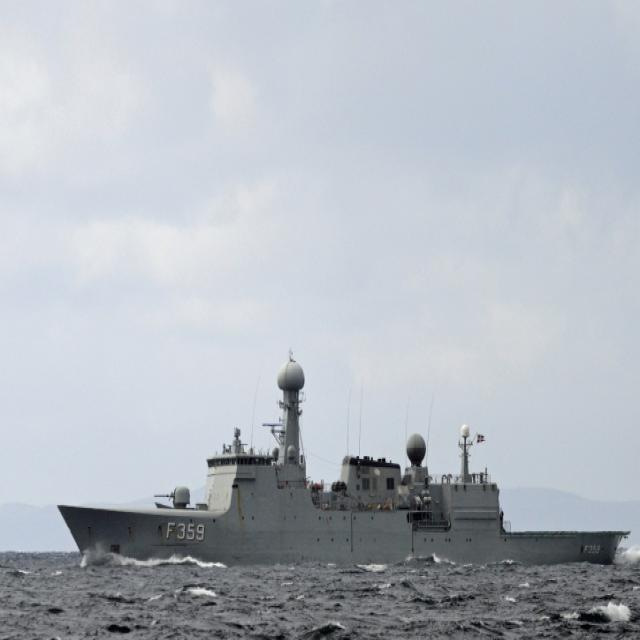Fragata: (53, 336, 640, 574)
